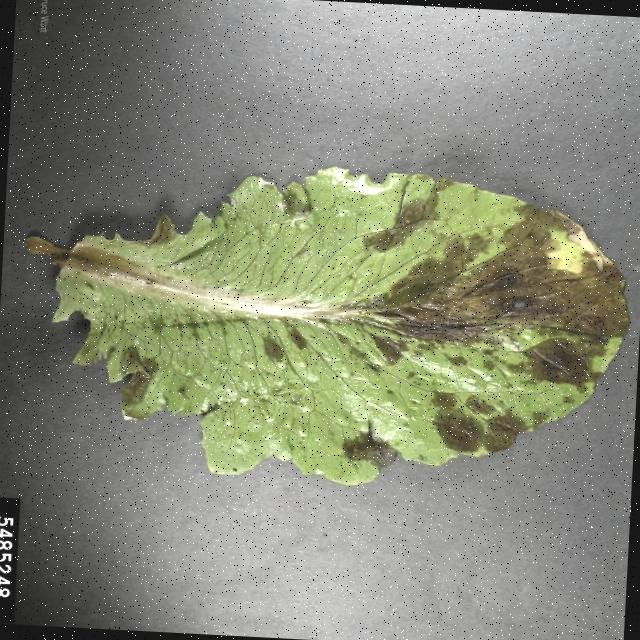Septoria_Blight_on_lettuce: (63, 170, 626, 456)
